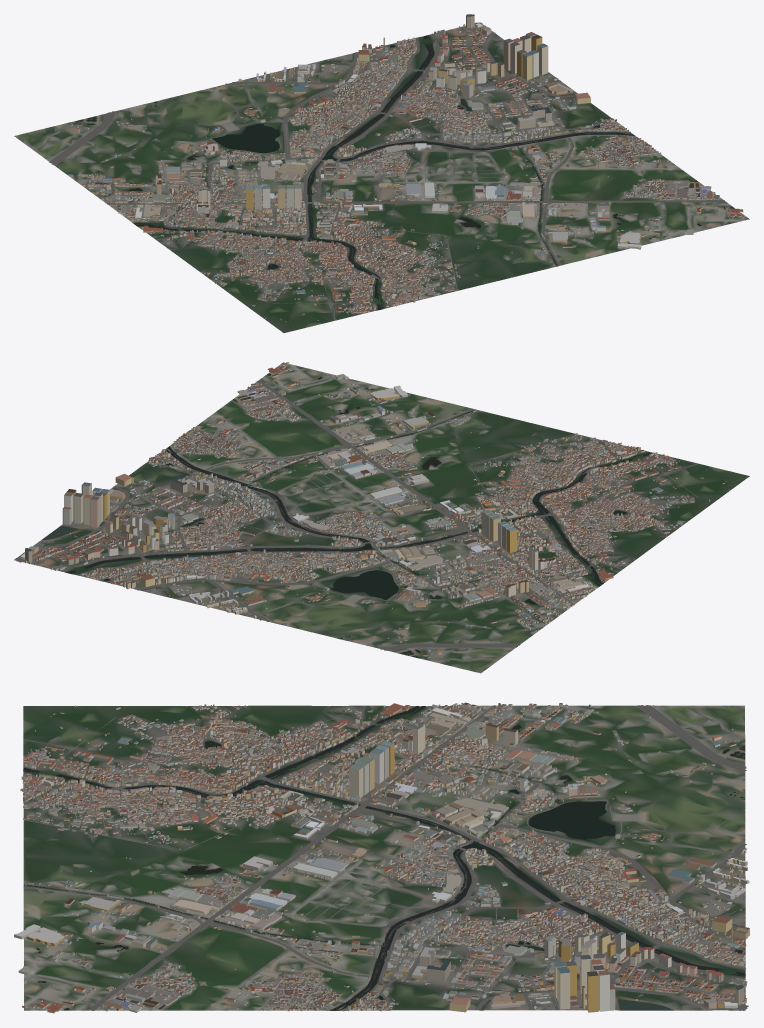
3 views of the same model, one above another, from view 1: azimuth 30°, elevation 25°; view 2: azimuth 150°, elevation 25°; view 3: azimuth 270°, elevation 25° (orthographic). The views are drawn at different scales.
Visible parts, largest first — view 1: ground, buildings, roads, water; view 2: ground, buildings, roads, water; view 3: ground, buildings, roads, water.
Part boxes in pixels (left/top/right/bottom): ground: left=14, top=22, right=749, bottom=332; buildings: left=48, top=14, right=745, bottom=321; roads: left=49, top=22, right=724, bottom=320; water: left=75, top=35, right=734, bottom=310; ground: left=14, top=362, right=749, bottom=673; buildings: left=20, top=362, right=729, bottom=661; roads: left=14, top=374, right=698, bottom=650; water: left=41, top=373, right=652, bottom=658; ground: left=23, top=705, right=745, bottom=1010; buildings: left=14, top=702, right=749, bottom=1013; roads: left=23, top=705, right=748, bottom=1011; water: left=23, top=706, right=745, bottom=1010.
Size of the model in its own units: 2839 by 165 by 2859.
